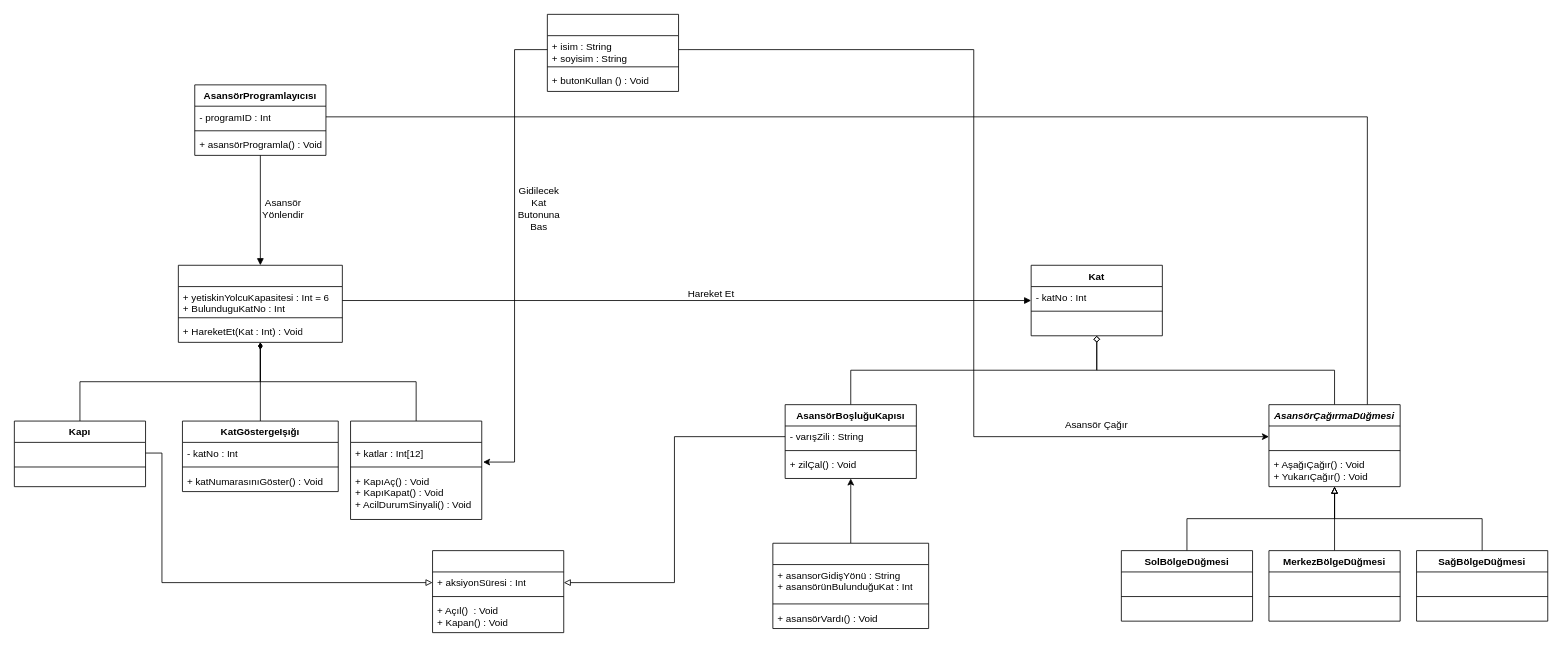
The diagram is 1562 pixels wide and 649 high, and some of its shapes have lost their labels. The shapes that lost their labels are listed below. From the top down, each one's box as (x1, y1, x2, y2) in pixels, then its label:
(547, 14, 679, 91): Kullanıcı
(178, 264, 342, 342): Asansör
(350, 420, 482, 519): KontrolPaneli
(432, 550, 564, 633): KapıHareketleri
(772, 542, 929, 629): SinyalIşığı
